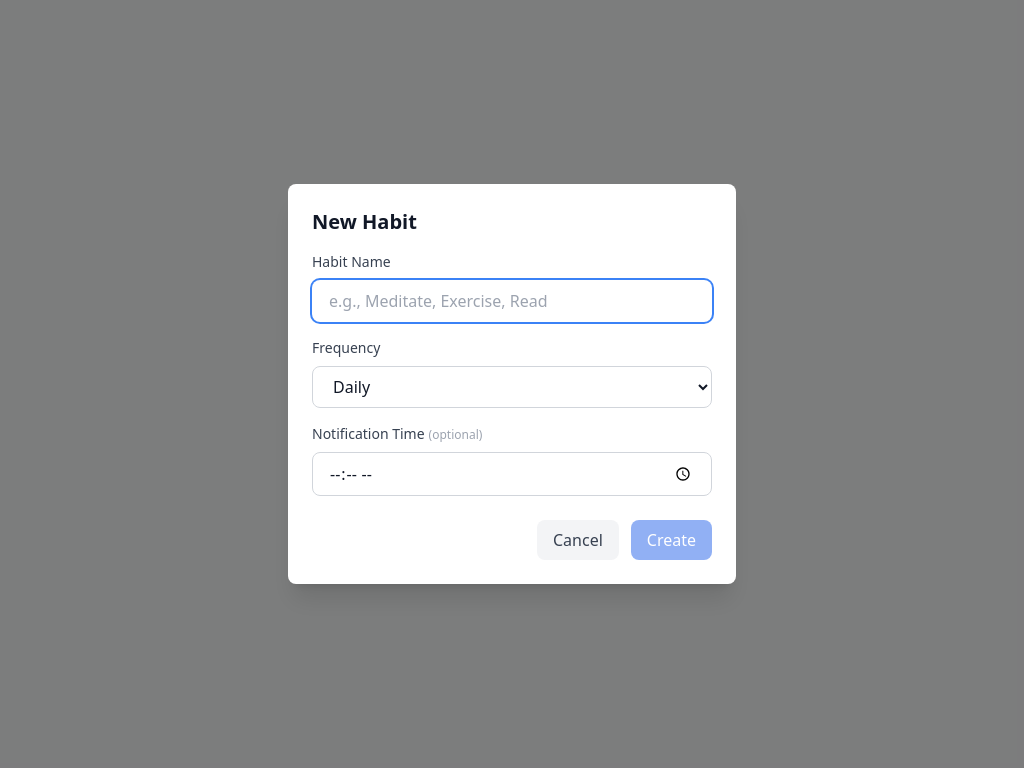
it: CreateHabitModal › should show error message when submit fails
The width and height of the screenshot is (1024, 768).
In the field labelled "Habit Name": x=512, y=301 [312,280,712,322], type "Meditate"
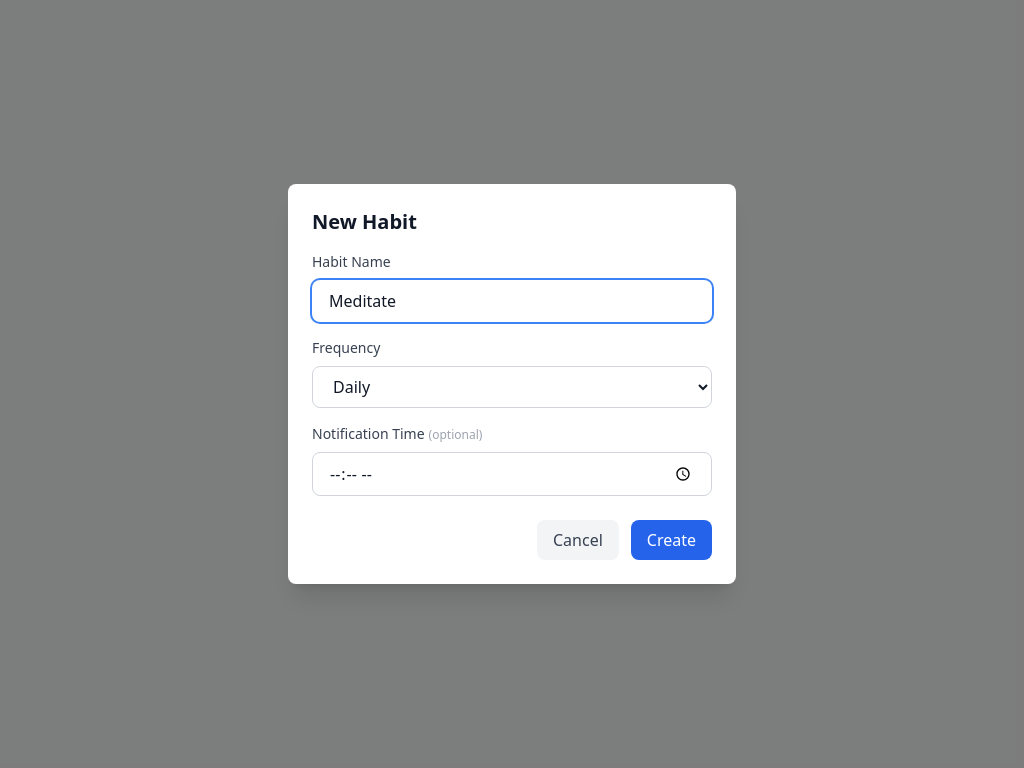
Click the button "Create": x=671, y=540 [631,520,712,560]
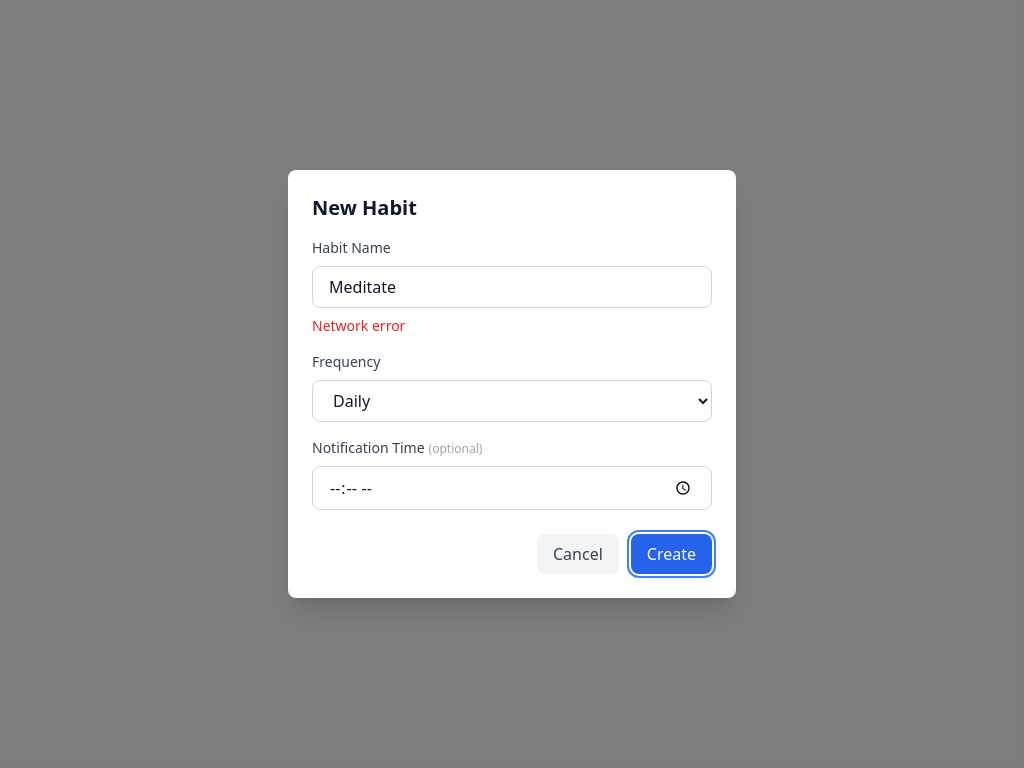
Expected: the message reads "Network error", [312,316,405,335]
